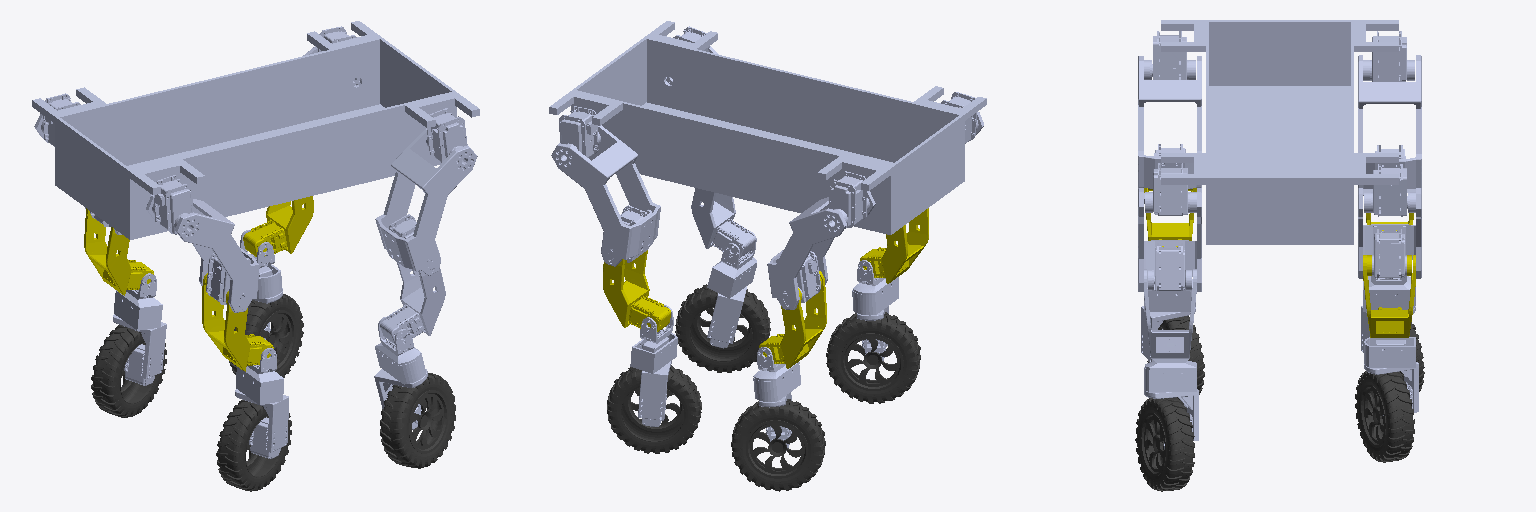
--- Facts derived from the render (not from the file) ---
3 views of the same robot in one strip: view 1: azimuth 30°, elevation 25°; view 2: azimuth 150°, elevation 25°; view 3: azimuth 270°, elevation 25° (orthographic).
Model project_hot with 21 links and 20 joints (20 continuous), rooted at base_link, posed all joints at 0.
Visible links, largest first — view 1: base_link, FR_hip_leg, RF_leg_wheel, BR_hip_leg, BL_wheel, BR_wheel, FR_knee_leg, FL_wheel, BR_knee_leg, BL_knee_leg, FL_knee_leg, FR_leg_foot (+6 smaller); view 2: base_link, FL_hip_leg, BL_wheel, BR_wheel, BL_hip_leg, FL_wheel, RF_leg_wheel, FL_knee_leg, BL_knee_leg, FR_knee_leg, BR_knee_leg, FL_foot_leg (+5 smaller); view 3: base_link, RF_leg_wheel, FL_wheel, FL_hip_leg, FR_hip_leg, BR_hip_leg, BL_hip_leg, FL_knee_leg, FR_knee_leg, FR_leg_foot, FL_foot_leg, BL_foot_leg (+6 smaller).
Link boxes in pixels (left/top/right/bottom): base_link: left=32, top=21, right=479, bottom=239; FR_hip_leg: left=375, top=128, right=477, bottom=275; RF_leg_wheel: left=380, top=373, right=455, bottom=468; BR_hip_leg: left=146, top=195, right=259, bottom=312; BL_wheel: left=91, top=325, right=166, bottom=417; BR_wheel: left=216, top=400, right=291, bottom=491; FR_knee_leg: left=380, top=261, right=445, bottom=344; FL_wheel: left=229, top=294, right=303, bottom=377; BR_knee_leg: left=202, top=273, right=273, bottom=371; BL_knee_leg: left=84, top=208, right=153, bottom=295; FL_knee_leg: left=243, top=196, right=313, bottom=256; FR_leg_foot: left=375, top=317, right=425, bottom=384; base_link: left=549, top=21, right=986, bottom=234; FL_hip_leg: left=551, top=125, right=660, bottom=266; BL_wheel: left=731, top=399, right=825, bottom=491; BR_wheel: left=826, top=312, right=920, bottom=403; BL_hip_leg: left=767, top=191, right=875, bottom=309; FL_wheel: left=607, top=365, right=701, bottom=453; RF_leg_wheel: left=675, top=284, right=770, bottom=372; FL_knee_leg: left=603, top=250, right=670, bottom=331; BL_knee_leg: left=759, top=271, right=826, bottom=368; FR_knee_leg: left=691, top=188, right=754, bottom=258; BR_knee_leg: left=860, top=208, right=928, bottom=283; FL_foot_leg: left=630, top=305, right=677, bottom=373; base_link: left=1150, top=20, right=1409, bottom=244; RF_leg_wheel: left=1135, top=397, right=1194, bottom=491; FL_wheel: left=1355, top=371, right=1414, bottom=462; FL_hip_leg: left=1358, top=188, right=1421, bottom=278; FR_hip_leg: left=1138, top=188, right=1201, bottom=291; BR_hip_leg: left=1138, top=56, right=1201, bottom=188; BL_hip_leg: left=1358, top=55, right=1421, bottom=188; FL_knee_leg: left=1363, top=255, right=1415, bottom=337; FR_knee_leg: left=1144, top=269, right=1196, bottom=358; FR_leg_foot: left=1144, top=359, right=1196, bottom=391; FL_foot_leg: left=1364, top=337, right=1415, bottom=367; BL_foot_leg: left=1363, top=276, right=1415, bottom=311.
Size in the robot's own frame: 0.5 by 0.3882 by 0.5004 metres.
Meshes: 21 distinct files referenced, 21 mesh visuals loaded (21 binary STL).

The robot description file, URDF, robot "project_hot":
<?xml version="1.0" encoding="utf-8"?>
<!-- This URDF was automatically created by SolidWorks to URDF Exporter! Originally created by Stephen Brawner ([email redacted]) 
     Commit Version: 1.6.0-4-g7f85cfe  Build Version: 1.6.7995.38578
     For more information, please see http://wiki.ros.org/sw_urdf_exporter -->
<robot
  name="project_hot">
  <link
    name="base_link">
    <inertial>
      <origin
        xyz="-0.000151101059932132 -2.93020815944622E-14 0.0360808042551358"
        rpy="0 0 0" />
      <mass
        value="1.59590770123768" />
      <inertia
        ixx="0.00982941426976709"
        ixy="1.64069015580728E-08"
        ixz="3.2195771218049E-06"
        iyy="0.0370814414687927"
        iyz="-5.8207267696326E-09"
        izz="0.0435919405103592" />
    </inertial>
    <visual>
      <origin
        xyz="0 0 0"
        rpy="0 0 0" />
      <geometry>
        <mesh
          filename="package://project_hot/meshes/base_link.STL" />
      </geometry>
      <material
        name="">
        <color
          rgba="0.792156862745098 0.819607843137255 0.933333333333333 1" />
      </material>
    </visual>
    <collision>
      <origin
        xyz="0 0 0"
        rpy="0 0 0" />
      <geometry>
        <mesh
          filename="package://project_hot/meshes/base_link.STL" />
      </geometry>
    </collision>
  </link>
  <link
    name="FR_hip_leg">
    <inertial>
      <origin
        xyz="-0.0493860304905318 0.0861267751640668 0.0297190531044023"
        rpy="0 0 0" />
      <mass
        value="0.204569331769132" />
      <inertia
        ixx="0.000482950622079233"
        ixy="0.000107962716611928"
        ixz="2.57287580253101E-07"
        iyy="0.00025203362976228"
        iyz="8.42604188111788E-07"
        izz="0.000401214203111183" />
    </inertial>
    <visual>
      <origin
        xyz="0 0 0"
        rpy="0 0 0" />
      <geometry>
        <mesh
          filename="package://project_hot/meshes/FR_hip_leg.STL" />
      </geometry>
      <material
        name="">
        <color
          rgba="0.792156862745098 0.819607843137255 0.933333333333333 1" />
      </material>
    </visual>
    <collision>
      <origin
        xyz="0 0 0"
        rpy="0 0 0" />
      <geometry>
        <mesh
          filename="package://project_hot/meshes/FR_hip_leg.STL" />
      </geometry>
    </collision>
  </link>
  <joint
    name="FR_HIP_LEG"
    type="continuous">
    <origin
      xyz="0.21 -0.1773 0.04"
      rpy="-1.5707963267949 0 0" />
    <parent
      link="base_link" />
    <child
      link="FR_hip_leg" />
    <axis
      xyz="0 0 -1" />
    <limit
      effort="10"
      velocity="10" />
  </joint>
  <link
    name="FR_knee_leg">
    <inertial>
      <origin
        xyz="0.00774806636439732 0.0525324435623831 0.0271041858191073"
        rpy="0 0 0" />
      <mass
        value="0.0563034898702062" />
      <inertia
        ixx="8.30189739916403E-05"
        ixy="-3.53219989059757E-06"
        ixz="-2.01378002180236E-09"
        iyy="3.7406829364892E-05"
        iyz="1.08663878536901E-08"
        izz="5.42431190915607E-05" />
    </inertial>
    <visual>
      <origin
        xyz="0 0 0"
        rpy="0 0 0" />
      <geometry>
        <mesh
          filename="package://project_hot/meshes/FR_knee_leg.STL" />
      </geometry>
      <material
        name="">
        <color
          rgba="0.792156862745098 0.819607843137255 0.933333333333333 1" />
      </material>
    </visual>
    <collision>
      <origin
        xyz="0 0 0"
        rpy="0 0 0" />
      <geometry>
        <mesh
          filename="package://project_hot/meshes/FR_knee_leg.STL" />
      </geometry>
    </collision>
  </link>
  <joint
    name="FR_KNEE_LEG"
    type="continuous">
    <origin
      xyz="-0.0520792704962449 0.139457143470731 0.0028499999999998"
      rpy="0 0 0" />
    <parent
      link="FR_hip_leg" />
    <child
      link="FR_knee_leg" />
    <axis
      xyz="0 0 1" />
    <limit
      effort="10"
      velocity="10" />
  </joint>
  <link
    name="FR_leg_foot">
    <inertial>
      <origin
        xyz="0.00788055469414789 0.0422750947440941 0.0232238169253756"
        rpy="0 0 0" />
      <mass
        value="0.0671982080720275" />
      <inertia
        ixx="2.78841987322554E-05"
        ixy="6.34195240661471E-07"
        ixz="-2.57748820834425E-08"
        iyy="3.02330679109391E-05"
        iyz="-1.01961561325197E-07"
        izz="1.12702108291899E-05" />
    </inertial>
    <visual>
      <origin
        xyz="0 0 0"
        rpy="0 0 0" />
      <geometry>
        <mesh
          filename="package://project_hot/meshes/FR_leg_foot.STL" />
      </geometry>
      <material
        name="">
        <color
          rgba="0.792156862745098 0.819607843137255 0.933333333333333 1" />
      </material>
    </visual>
    <collision>
      <origin
        xyz="0 0 0"
        rpy="0 0 0" />
      <geometry>
        <mesh
          filename="package://project_hot/meshes/FR_leg_foot.STL" />
      </geometry>
    </collision>
  </link>
  <joint
    name="FR_LEG_foot"
    type="continuous">
    <origin
      xyz="-0.028488 0.10631 0.0057"
      rpy="0 0 0" />
    <parent
      link="FR_knee_leg" />
    <child
      link="FR_leg_foot" />
    <axis
      xyz="0 0 1" />
    <limit
      effort="10"
      velocity="10" />
  </joint>
  <link
    name="FR_leg_steering">
    <inertial>
      <origin
        xyz="-0.00452122434708185 -0.0231588908093107 0.0229677930997373"
        rpy="0 0 0" />
      <mass
        value="0.0345233816728568" />
      <inertia
        ixx="2.60023361479333E-05"
        ixy="-2.11400866429808E-06"
        ixz="9.58577209534931E-07"
        iyy="1.76805628406605E-05"
        iyz="7.55308480057754E-06"
        izz="1.71851985200097E-05" />
    </inertial>
    <visual>
      <origin
        xyz="0 0 0"
        rpy="0 0 0" />
      <geometry>
        <mesh
          filename="package://project_hot/meshes/FR_leg_steering.STL" />
      </geometry>
      <material
        name="">
        <color
          rgba="0.792156862745098 0.819607843137255 0.933333333333333 1" />
      </material>
    </visual>
    <collision>
      <origin
        xyz="0 0 0"
        rpy="0 0 0" />
      <geometry>
        <mesh
          filename="package://project_hot/meshes/FR_leg_steering.STL" />
      </geometry>
    </collision>
  </link>
  <joint
    name="FR_LEG_STEERING"
    type="continuous">
    <origin
      xyz="0.012595 0.061231 0.011595"
      rpy="-1.5708 0 0" />
    <parent
      link="FR_leg_foot" />
    <child
      link="FR_leg_steering" />
    <axis
      xyz="0.2451 0 0.9695" />
    <limit
      effort="10"
      velocity="10" />
  </joint>
  <link
    name="RF_leg_wheel">
    <inertial>
      <origin
        xyz="-0.00269658626678712 0.000777332640689965 0.00655736324161921"
        rpy="0 0 0" />
      <mass
        value="0.0625586708019178" />
      <inertia
        ixx="0.000109150756010706"
        ixy="-2.86285551062966E-06"
        ixz="-2.74274000454464E-05"
        iyy="9.82801878630719E-05"
        iyz="6.84269099706079E-06"
        izz="0.000162867185630762" />
    </inertial>
    <visual>
      <origin
        xyz="0 0 0"
        rpy="0 0 0" />
      <geometry>
        <mesh
          filename="package://project_hot/meshes/RF_leg_wheel.STL" />
      </geometry>
      <material
        name="">
        <color
          rgba="0.298039215686275 0.298039215686275 0.298039215686275 1" />
      </material>
    </visual>
    <collision>
      <origin
        xyz="0 0 0"
        rpy="0 0 0" />
      <geometry>
        <mesh
          filename="package://project_hot/meshes/RF_leg_wheel.STL" />
      </geometry>
    </collision>
  </link>
  <joint
    name="LEG_LEG_WHEEL"
    type="continuous">
    <origin
      xyz="0.021197 0.0062409 0.072826"
      rpy="1.5708 0 0" />
    <parent
      link="FR_leg_steering" />
    <child
      link="RF_leg_wheel" />
    <axis
      xyz="0.38499 -0.09733 -0.91778" />
    <limit
      effort="10"
      velocity="10" />
    <dynamics
      damping="0.1"
      friction="0.1" />
  </joint>
  <link
    name="FL_hip_leg">
    <inertial>
      <origin
        xyz="-0.0646593434558959 0.0784000912505611 -0.0310771142466191"
        rpy="0 0 0" />
      <mass
        value="0.21473624759" />
      <inertia
        ixx="0.000446305762859324"
        ixy="0.000139531366976782"
        ixz="1.13288093012706E-07"
        iyy="0.000296326771972987"
        iyz="8.73696075807206E-07"
        izz="0.000404255883333166" />
    </inertial>
    <visual>
      <origin
        xyz="0 0 0"
        rpy="0 0 0" />
      <geometry>
        <mesh
          filename="package://project_hot/meshes/FL_hip_leg.STL" />
      </geometry>
      <material
        name="">
        <color
          rgba="0.792156862745098 0.819607843137255 0.933333333333333 1" />
      </material>
    </visual>
    <collision>
      <origin
        xyz="0 0 0"
        rpy="0 0 0" />
      <geometry>
        <mesh
          filename="package://project_hot/meshes/FL_hip_leg.STL" />
      </geometry>
    </collision>
  </link>
  <joint
    name="FL_HIP_LEH"
    type="continuous">
    <origin
      xyz="0.21 0.1785 0.0399999999999999"
      rpy="-1.5707963267949 0 0" />
    <parent
      link="base_link" />
    <child
      link="FL_hip_leg" />
    <axis
      xyz="0 0 1" />
    <limit
      effort="10"
      velocity="10" />
  </joint>
  <link
    name="FL_knee_leg">
    <inertial>
      <origin
        xyz="-0.00111365968227137 0.0530890966715402 -0.0261957971452797"
        rpy="0 0 0" />
      <mass
        value="0.0563034596335536" />
      <inertia
        ixx="8.29131505552523E-05"
        ixy="4.15795626758201E-06"
        ixz="-3.80951296044349E-09"
        iyy="3.75125478044291E-05"
        iyz="1.04213232024258E-08"
        izz="5.42430627920472E-05" />
    </inertial>
    <visual>
      <origin
        xyz="0 0 0"
        rpy="0 0 0" />
      <geometry>
        <mesh
          filename="package://project_hot/meshes/FL_knee_leg.STL" />
      </geometry>
      <material
        name="">
        <color
          rgba="0.843137254901961 0.811764705882353 0 1" />
      </material>
    </visual>
    <collision>
      <origin
        xyz="0 0 0"
        rpy="0 0 0" />
      <geometry>
        <mesh
          filename="package://project_hot/meshes/FL_knee_leg.STL" />
      </geometry>
    </collision>
  </link>
  <joint
    name="FL_KNEE_LEG"
    type="continuous">
    <origin
      xyz="-0.0745887183049647 0.12882960988088 -0.00465000000000027"
      rpy="0 0 0" />
    <parent
      link="FL_hip_leg" />
    <child
      link="FL_knee_leg" />
    <axis
      xyz="0 0 1" />
    <limit
      effort="10"
      velocity="10" />
  </joint>
  <link
    name="FL_foot_leg">
    <inertial>
      <origin
        xyz="0.00342438905056888 0.0452959073382621 -0.0147876552645599"
        rpy="0 0 0" />
      <mass
        value="0.0544202009223978" />
      <inertia
        ixx="2.21498703575316E-05"
        ixy="9.994138502757E-08"
        ixz="-7.12185325767339E-09"
        iyy="2.33870260753267E-05"
        iyz="-8.85925948200142E-08"
        izz="9.38934977795975E-06" />
    </inertial>
    <visual>
      <origin
        xyz="0 0 0"
        rpy="0 0 0" />
      <geometry>
        <mesh
          filename="package://project_hot/meshes/FL_foot_leg.STL" />
      </geometry>
      <material
        name="">
        <color
          rgba="0.792156862745098 0.819607843137255 0.933333333333333 1" />
      </material>
    </visual>
    <collision>
      <origin
        xyz="0 0 0"
        rpy="0 0 0" />
      <geometry>
        <mesh
          filename="package://project_hot/meshes/FL_foot_leg.STL" />
      </geometry>
    </collision>
  </link>
  <joint
    name="FL_FOOT_LEG"
    type="continuous">
    <origin
      xyz="-0.0483417979478693 0.10027767921474 -0.0097000000000024"
      rpy="0 0 0" />
    <parent
      link="FL_knee_leg" />
    <child
      link="FL_foot_leg" />
    <axis
      xyz="0 0 -1" />
    <limit
      effort="10"
      velocity="10" />
  </joint>
  <link
    name="FL_steering">
    <inertial>
      <origin
        xyz="-0.00828511368940257 -0.0231588876139516 0.0218933312991373"
        rpy="0 0 0" />
      <mass
        value="0.0345233833008326" />
      <inertia
        ixx="2.54425380095312E-05"
        ixy="-3.34301610425066E-06"
        ixz="2.35399962061661E-06"
        iyy="1.76805638140081E-05"
        iyz="7.09523492193558E-06"
        izz="1.77449961495055E-05" />
    </inertial>
    <visual>
      <origin
        xyz="0 0 0"
        rpy="0 0 0" />
      <geometry>
        <mesh
          filename="package://project_hot/meshes/FL_steering.STL" />
      </geometry>
      <material
        name="">
        <color
          rgba="0.792156862745098 0.819607843137255 0.933333333333333 1" />
      </material>
    </visual>
    <collision>
      <origin
        xyz="0 0 0"
        rpy="0 0 0" />
      <geometry>
        <mesh
          filename="package://project_hot/meshes/FL_steering.STL" />
      </geometry>
    </collision>
  </link>
  <joint
    name="FL_STEERING"
    type="continuous">
    <origin
      xyz="0.0047549 0.062269 -0.026305"
      rpy="-1.5708 0 0" />
    <parent
      link="FL_foot_leg" />
    <child
      link="FL_steering" />
    <axis
      xyz="0.08013 0 0.99678" />
    <limit
      effort="10"
      velocity="10" />
    <dynamics
      damping="0.1"
      friction="0.1" />
  </joint>
  <link
    name="FL_wheel">
    <inertial>
      <origin
        xyz="-0.00239245001997127 0.000285391644588073 0.00563963313880322"
        rpy="0 0 0" />
      <mass
        value="0.0625585572564107" />
      <inertia
        ixx="0.000109789737162551"
        ixy="-9.1781325087378E-07"
        ixz="-2.81840623133954E-05"
        iyy="9.76408597706116E-05"
        iyz="2.17682592396524E-06"
        izz="0.000162866837404322" />
    </inertial>
    <visual>
      <origin
        xyz="0 0 0"
        rpy="0 0 0" />
      <geometry>
        <mesh
          filename="package://project_hot/meshes/FL_wheel.STL" />
      </geometry>
      <material
        name="">
        <color
          rgba="0.298039215686275 0.298039215686275 0.298039215686275 1" />
      </material>
    </visual>
    <collision>
      <origin
        xyz="0 0 0"
        rpy="0 0 0" />
      <geometry>
        <mesh
          filename="package://project_hot/meshes/FL_wheel.STL" />
      </geometry>
    </collision>
  </link>
  <joint
    name="FL_WHEEL"
    type="continuous">
    <origin
      xyz="0.0083696 0.0053231 0.075372"
      rpy="1.5708 0 0" />
    <parent
      link="FL_steering" />
    <child
      link="FL_wheel" />
    <axis
      xyz="0.39582 -0.03182 -0.91778" />
    <limit
      effort="10"
      velocity="10" />
    <dynamics
      damping="0.1"
      friction="0.1" />
  </joint>
  <link
    name="BL_hip_leg">
    <inertial>
      <origin
        xyz="0.062765044428237 0.0799246773369 -0.0249028856845379"
        rpy="0 0 0" />
      <mass
        value="0.214736250036533" />
      <inertia
        ixx="0.000452894815673893"
        ixy="-0.000135784271560711"
        ixz="1.34159440135606E-07"
        iyy="0.000289737728022034"
        iyz="-8.70735927010169E-07"
        izz="0.000404255892580987" />
    </inertial>
    <visual>
      <origin
        xyz="0 0 0"
        rpy="0 0 0" />
      <geometry>
        <mesh
          filename="package://project_hot/meshes/BL_hip_leg.STL" />
      </geometry>
      <material
        name="">
        <color
          rgba="0.792156862745098 0.819607843137255 0.933333333333333 1" />
      </material>
    </visual>
    <collision>
      <origin
        xyz="0 0 0"
        rpy="0 0 0" />
      <geometry>
        <mesh
          filename="package://project_hot/meshes/BL_hip_leg.STL" />
      </geometry>
    </collision>
  </link>
  <joint
    name="BL_HIP_LEG"
    type="continuous">
    <origin
      xyz="-0.21 0.17248 0.04"
      rpy="-1.5707963267949 0 0" />
    <parent
      link="base_link" />
    <child
      link="BL_hip_leg" />
    <axis
      xyz="0 0 1" />
    <limit
      effort="10"
      velocity="10" />
  </joint>
  <link
    name="BL_knee_leg">
    <inertial>
      <origin
        xyz="-0.000156860422974775 0.0531005474575022 -0.0271042052196531"
        rpy="0 0 0" />
      <mass
        value="0.0563034557204064" />
      <inertia
        ixx="8.30860596034438E-05"
        ixy="-3.06725688793152E-06"
        ixz="-3.56102382272015E-09"
        iyy="3.73396245333874E-05"
        iyz="-1.05155673908825E-08"
        izz="5.4243055045816E-05" />
    </inertial>
    <visual>
      <origin
        xyz="0 0 0"
        rpy="0 0 0" />
      <geometry>
        <mesh
          filename="package://project_hot/meshes/BL_knee_leg.STL" />
      </geometry>
      <material
        name="">
        <color
          rgba="0.843137254901961 0.811764705882353 0 1" />
      </material>
    </visual>
    <collision>
      <origin
        xyz="0 0 0"
        rpy="0 0 0" />
      <geometry>
        <mesh
          filename="package://project_hot/meshes/BL_knee_leg.STL" />
      </geometry>
    </collision>
  </link>
  <joint
    name="BL_KNEE_LEG"
    type="continuous">
    <origin
      xyz="0.0714850077060553 0.130577329401785 0.00197000000000019"
      rpy="0 0 0" />
    <parent
      link="BL_hip_leg" />
    <child
      link="BL_knee_leg" />
    <axis
      xyz="0 0 -1" />
    <limit
      effort="10"
      velocity="10" />
  </joint>
  <link
    name="BL_foot_leg">
    <inertial>
      <origin
        xyz="-0.00428736684183682 0.0427027985270238 -0.0201238165833599"
        rpy="0 0 0" />
      <mass
        value="0.0671982083804068" />
      <inertia
        ixx="2.77527218888534E-05"
        ixy="-2.758495599939E-07"
        ixz="-1.09325894204219E-08"
        iyy="3.03645460418635E-05"
        iyz="1.04599126523847E-07"
        izz="1.12702101756263E-05" />
    </inertial>
    <visual>
      <origin
        xyz="0 0 0"
        rpy="0 0 0" />
      <geometry>
        <mesh
          filename="package://project_hot/meshes/BL_foot_leg.STL" />
      </geometry>
      <material
        name="">
        <color
          rgba="0.792156862745098 0.819607843137255 0.933333333333333 1" />
      </material>
    </visual>
    <collision>
      <origin
        xyz="0 0 0"
        rpy="0 0 0" />
      <geometry>
        <mesh
          filename="package://project_hot/meshes/BL_foot_leg.STL" />
      </geometry>
    </collision>
  </link>
  <joint
    name="BL_FOOT_LEG"
    type="continuous">
    <origin
      xyz="0.0459287302457042 0.101405592131521 -0.00879999999999759"
      rpy="0 0 0" />
    <parent
      link="BL_knee_leg" />
    <child
      link="BL_foot_leg" />
    <axis
      xyz="0 0 -1" />
    <limit
      effort="10"
      velocity="10" />
  </joint>
  <link
    name="BL_steering">
    <inertial>
      <origin
        xyz="0.00775892385563995 0.0231588880745645 0.0220852925811976"
        rpy="0 0 0" />
      <mass
        value="0.0345233828273817" />
      <inertia
        ixx="2.55507425164469E-05"
        ixy="-3.17229910277934E-06"
        ixz="-2.16718611806498E-06"
        iyy="1.76805635272028E-05"
        iyz="-7.1731885609558E-06"
        izz="1.76367915264641E-05" />
    </inertial>
    <visual>
      <origin
        xyz="0 0 0"
        rpy="0 0 0" />
      <geometry>
        <mesh
          filename="package://project_hot/meshes/BL_steering.STL" />
      </geometry>
      <material
        name="">
        <color
          rgba="0.792156862745098 0.819607843137255 0.933333333333333 1" />
      </material>
    </visual>
    <collision>
      <origin
        xyz="0 0 0"
        rpy="0 0 0" />
      <geometry>
        <mesh
          filename="package://project_hot/meshes/BL_steering.STL" />
      </geometry>
    </collision>
  </link>
  <joint
    name="BL_STEERING"
    type="continuous">
    <origin
      xyz="-0.00624342492395817 0.0621376266461711 -0.00849480890112134"
      rpy="-1.5707963267949 0 0" />
    <parent
      link="BL_foot_leg" />
    <child
      link="BL_steering" />
    <axis
      xyz="-0.103956291283057 0 0.994581866666929" />
    <limit
      effort="10"
      velocity="10" />
  </joint>
  <link
    name="BL_wheel">
    <inertial>
      <origin
        xyz="0.00277998215256635 0.000383824149325585 -0.00655737096558764"
        rpy="0 0 0" />
      <mass
        value="0.0625586869225041" />
      <inertia
        ixx="0.000109738980189452"
        ixy="1.20732176541389E-06"
        ixz="-2.81239872620089E-05"
        iyy="9.76920610482077E-05"
        iyz="-2.85055175663538E-06"
        izz="0.000162867307523841" />
    </inertial>
    <visual>
      <origin
        xyz="0 0 0"
        rpy="0 0 0" />
      <geometry>
        <mesh
          filename="package://project_hot/meshes/BL_wheel.STL" />
      </geometry>
      <material
        name="">
        <color
          rgba="0.298039215686275 0.298039215686275 0.298039215686275 1" />
      </material>
    </visual>
    <collision>
      <origin
        xyz="0 0 0"
        rpy="0 0 0" />
      <geometry>
        <mesh
          filename="package://project_hot/meshes/BL_wheel.STL" />
      </geometry>
    </collision>
  </link>
  <joint
    name="BL_WHEEL"
    type="continuous">
    <origin
      xyz="-0.0105655325054485 -0.00624087406384091 0.0751085948064218"
      rpy="1.5707963267949 0 0" />
    <parent
      link="BL_steering" />
    <child
      link="BL_wheel" />
    <axis
      xyz="-0.394947886205581 -0.0412809833721077 0.917775597623719" />
    <limit
      effort="10"
      velocity="10" />
    <dynamics
      damping="0.1"
      friction="0.1" />
  </joint>
  <link
    name="BR_hip_leg">
    <inertial>
      <origin
        xyz="0.0672255390146745 0.0758695218363479 0.0312005017254162"
        rpy="0 0 0" />
      <mass
        value="0.213527468138879" />
      <inertia
        ixx="0.000436565265012075"
        ixy="-0.000144311752970515"
        ixz="8.34721955426952E-08"
        iyy="0.000305927686387191"
        iyz="-8.77046471642213E-07"
        izz="0.00040411791481062" />
    </inertial>
    <visual>
      <origin
        xyz="0 0 0"
        rpy="0 0 0" />
      <geometry>
        <mesh
          filename="package://project_hot/meshes/BR_hip_leg.STL" />
      </geometry>
      <material
        name="">
        <color
          rgba="0.792156862745098 0.819607843137255 0.933333333333333 1" />
      </material>
    </visual>
    <collision>
      <origin
        xyz="0 0 0"
        rpy="0 0 0" />
      <geometry>
        <mesh
          filename="package://project_hot/meshes/BR_hip_leg.STL" />
      </geometry>
    </collision>
  </link>
  <joint
    name="BR_HIP_LEG"
    type="continuous">
    <origin
      xyz="-0.21 -0.1785 0.0399999999999999"
      rpy="-1.5707963267949 0 0" />
    <parent
      link="base_link" />
    <child
      link="BR_hip_leg" />
    <axis
      xyz="0 0 -1" />
    <limit
      effort="10"
      velocity="10" />
  </joint>
  <link
    name="BR_knee_leg">
    <inertial>
      <origin
        xyz="0.00292074234177973 0.0530203918194807 0.0261957925655642"
        rpy="0 0 0" />
      <mass
        value="0.0563034482164378" />
      <inertia
        ixx="8.25774973136247E-05"
        ixy="-5.69334621501427E-06"
        ixz="-4.16059867942183E-09"
        iyy="3.78481794720687E-05"
        iyz="-1.02898932615508E-08"
        izz="5.42430568899995E-05" />
    </inertial>
    <visual>
      <origin
        xyz="0 0 0"
        rpy="0 0 0" />
      <geometry>
        <mesh
          filename="package://project_hot/meshes/BR_knee_leg.STL" />
      </geometry>
      <material
        name="">
        <color
          rgba="0.843137254901961 0.811764705882353 0 1" />
      </material>
    </visual>
    <collision>
      <origin
        xyz="0 0 0"
        rpy="0 0 0" />
      <geometry>
        <mesh
          filename="package://project_hot/meshes/BR_knee_leg.STL" />
      </geometry>
    </collision>
  </link>
  <joint
    name="BR_KNEE_LEG"
    type="continuous">
    <origin
      xyz="0.078932 0.12622 0.00465"
      rpy="0 0 0" />
    <parent
      link="BR_hip_leg" />
    <child
      link="BR_knee_leg" />
    <axis
      xyz="0 0 -1" />
    <limit
      effort="10"
      velocity="10" />
    <dynamics
      damping="0.1"
      friction="0.1" />
  </joint>
  <link
    name="BR_foot_leg">
    <inertial>
      <origin
        xyz="-0.00434916897724524 0.0427619934931083 0.0217761836428121"
        rpy="0 0 0" />
      <mass
        value="0.0671982086199827" />
      <inertia
        ixx="2.77295755811228E-05"
        ixy="-1.22887762142477E-07"
        ixz="-4.85311780476173E-09"
        iyy="3.03876932073729E-05"
        iyz="1.05056851820916E-07"
        izz="1.12702097282099E-05" />
    </inertial>
    <visual>
      <origin
        xyz="0 0 0"
        rpy="0 0 0" />
      <geometry>
        <mesh
          filename="package://project_hot/meshes/BR_foot_leg.STL" />
      </geometry>
      <material
        name="">
        <color
          rgba="0.792156862745098 0.819607843137255 0.933333333333333 1" />
      </material>
    </visual>
    <collision>
      <origin
        xyz="0 0 0"
        rpy="0 0 0" />
      <geometry>
        <mesh
          filename="package://project_hot/meshes/BR_foot_leg.STL" />
      </geometry>
    </collision>
  </link>
  <joint
    name="BR_FOOT_LEG"
    type="continuous">
    <origin
      xyz="0.0542720710637505 0.0986909502127203 0.00260000000000318"
      rpy="0 0 0" />
    <parent
      link="BR_knee_leg" />
    <child
      link="BR_foot_leg" />
    <axis
      xyz="0 0 1" />
    <limit
      effort="10"
      velocity="10" />
    <dynamics
      damping="0.1"
      friction="0.1" />
  </joint>
  <link
    name="BR_steering">
    <inertial>
      <origin
        xyz="0.00902579751170782 0.0215985200532103 -0.0231588869501209"
        rpy="0 0 0" />
      <mass
        value="0.0345233837660204" />
      <inertia
        ixx="2.52733941861471E-05"
        ixy="-2.61049790295428E-06"
        ixz="3.58267686864328E-06"
        iyy="1.79141401203281E-05"
        iyz="6.9772875424037E-06"
        izz="1.76805641870529E-05" />
    </inertial>
    <visual>
      <origin
        xyz="0 0 0"
        rpy="0 0 0" />
      <geometry>
        <mesh
          filename="package://project_hot/meshes/BR_steering.STL" />
      </geometry>
      <material
        name="">
        <color
          rgba="0.792156862745098 0.819607843137255 0.933333333333333 1" />
      </material>
    </visual>
    <collision>
      <origin
        xyz="0 0 0"
        rpy="0 0 0" />
      <geometry>
        <mesh
          filename="package://project_hot/meshes/BR_steering.STL" />
      </geometry>
    </collision>
  </link>
  <joint
    name="BR_STEERING"
    type="continuous">
    <origin
      xyz="-0.00517563172716813 0.0622775172308049 0.0334051910988779"
      rpy="0 0 0" />
    <parent
      link="BR_foot_leg" />
    <child
      link="BR_steering" />
    <axis
      xyz="-0.0461424930546299 0.998934867914172 0" />
    <limit
      effort="10"
      velocity="10" />
    <dynamics
      damping="0.1"
      friction="0.1" />
  </joint>
  <link
    name="BR_wheel">
    <inertial>
      <origin
        xyz="0.00279763250926485 0.000222103814460028 -0.00655737651559093"
        rpy="0 0 0" />
      <mass
        value="0.0625588340326886" />
      <inertia
        ixx="0.000109838271065952"
        ixy="5.02176269613149E-07"
        ixz="-2.82419649106995E-05"
        iyy="9.75930322394673E-05"
        iyz="-1.21590997244981E-06"
        izz="0.000162867432664728" />
    </inertial>
    <visual>
      <origin
        xyz="0 0 0"
        rpy="0 0 0" />
      <geometry>
        <mesh
          filename="package://project_hot/meshes/BR_wheel.STL" />
      </geometry>
      <material
        name="">
        <color
          rgba="0.298039215686275 0.298039215686275 0.298039215686275 1" />
      </material>
    </visual>
    <collision>
      <origin
        xyz="0 0 0"
        rpy="0 0 0" />
      <geometry>
        <mesh
          filename="package://project_hot/meshes/BR_wheel.STL" />
      </geometry>
    </collision>
  </link>
  <joint
    name="BR_WHEEL"
    type="continuous">
    <origin
      xyz="-0.00619500090488682 0.075594665517531 0.00624087406384094"
      rpy="0 0 0" />
    <parent
      link="BR_steering" />
    <child
      link="BR_wheel" />
    <axis
      xyz="-0.396676460492799 -0.018323157406152 0.917775597623719" />
    <limit
      effort="10"
      velocity="10" />
    <dynamics
      damping="0.1"
      friction="0.1" />
  </joint>
</robot>
